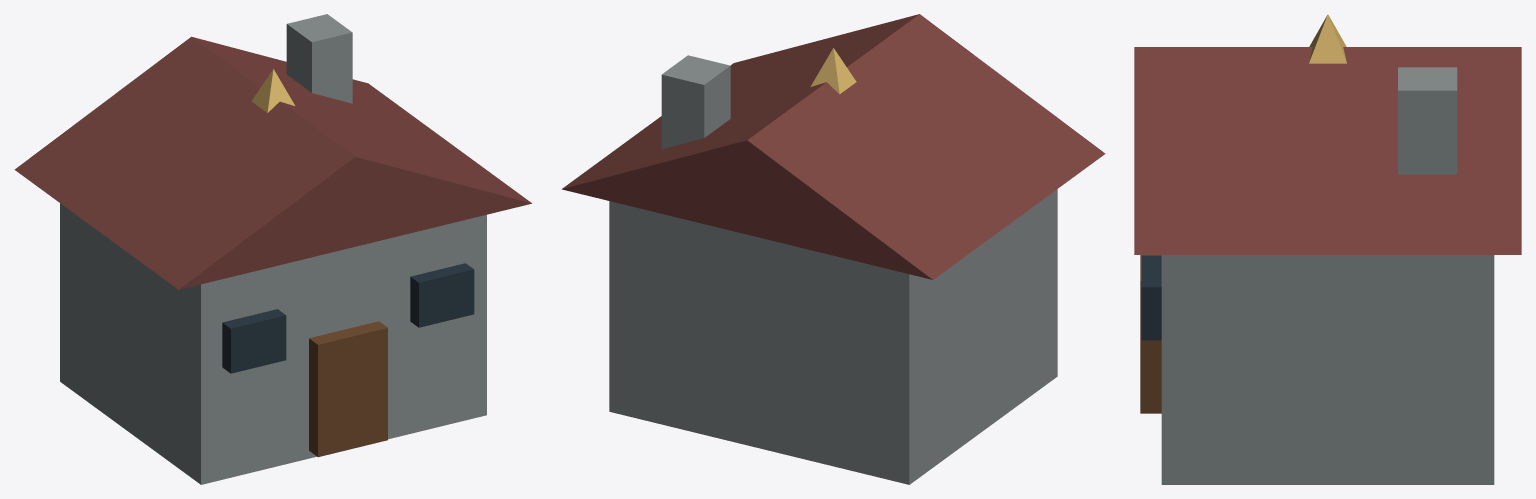
The model's file is civilian.obj.
The picture shows the model from 3 angles, left to right: view 1: azimuth 30°, elevation 25°; view 2: azimuth 150°, elevation 25°; view 3: azimuth 270°, elevation 25°; orthographic projection. The views are drawn at different scales.
Visible parts, largest first — view 1: civilian; view 2: civilian; view 3: civilian.
Part boxes in pixels (x1,y1,x2,y2): civilian: [14, 14, 531, 484]; civilian: [562, 14, 1105, 484]; civilian: [1134, 14, 1521, 484].
Size of the model in its own units: 2.52 by 2.24 by 2.02.
